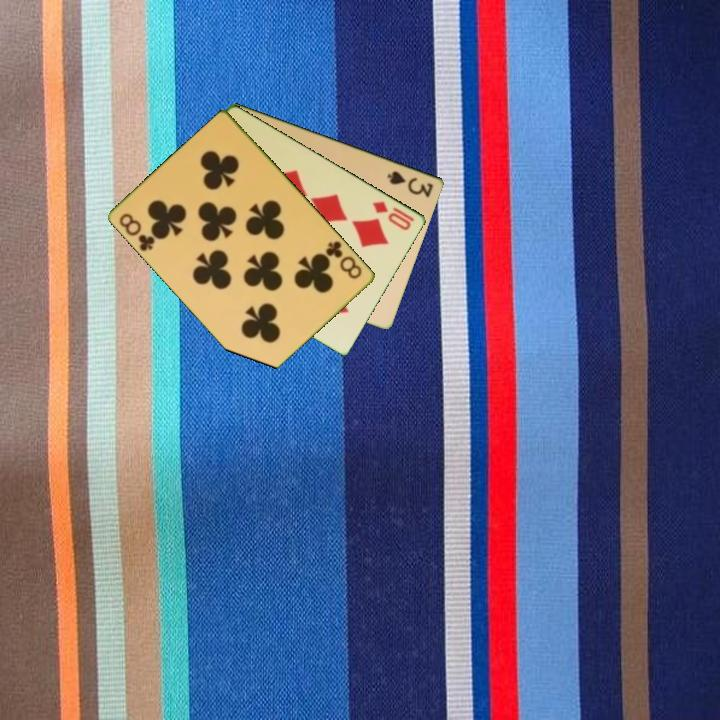10d: (369, 197, 418, 233)
3s: (384, 167, 436, 200)
8c: (322, 237, 365, 282), (116, 210, 158, 254)
